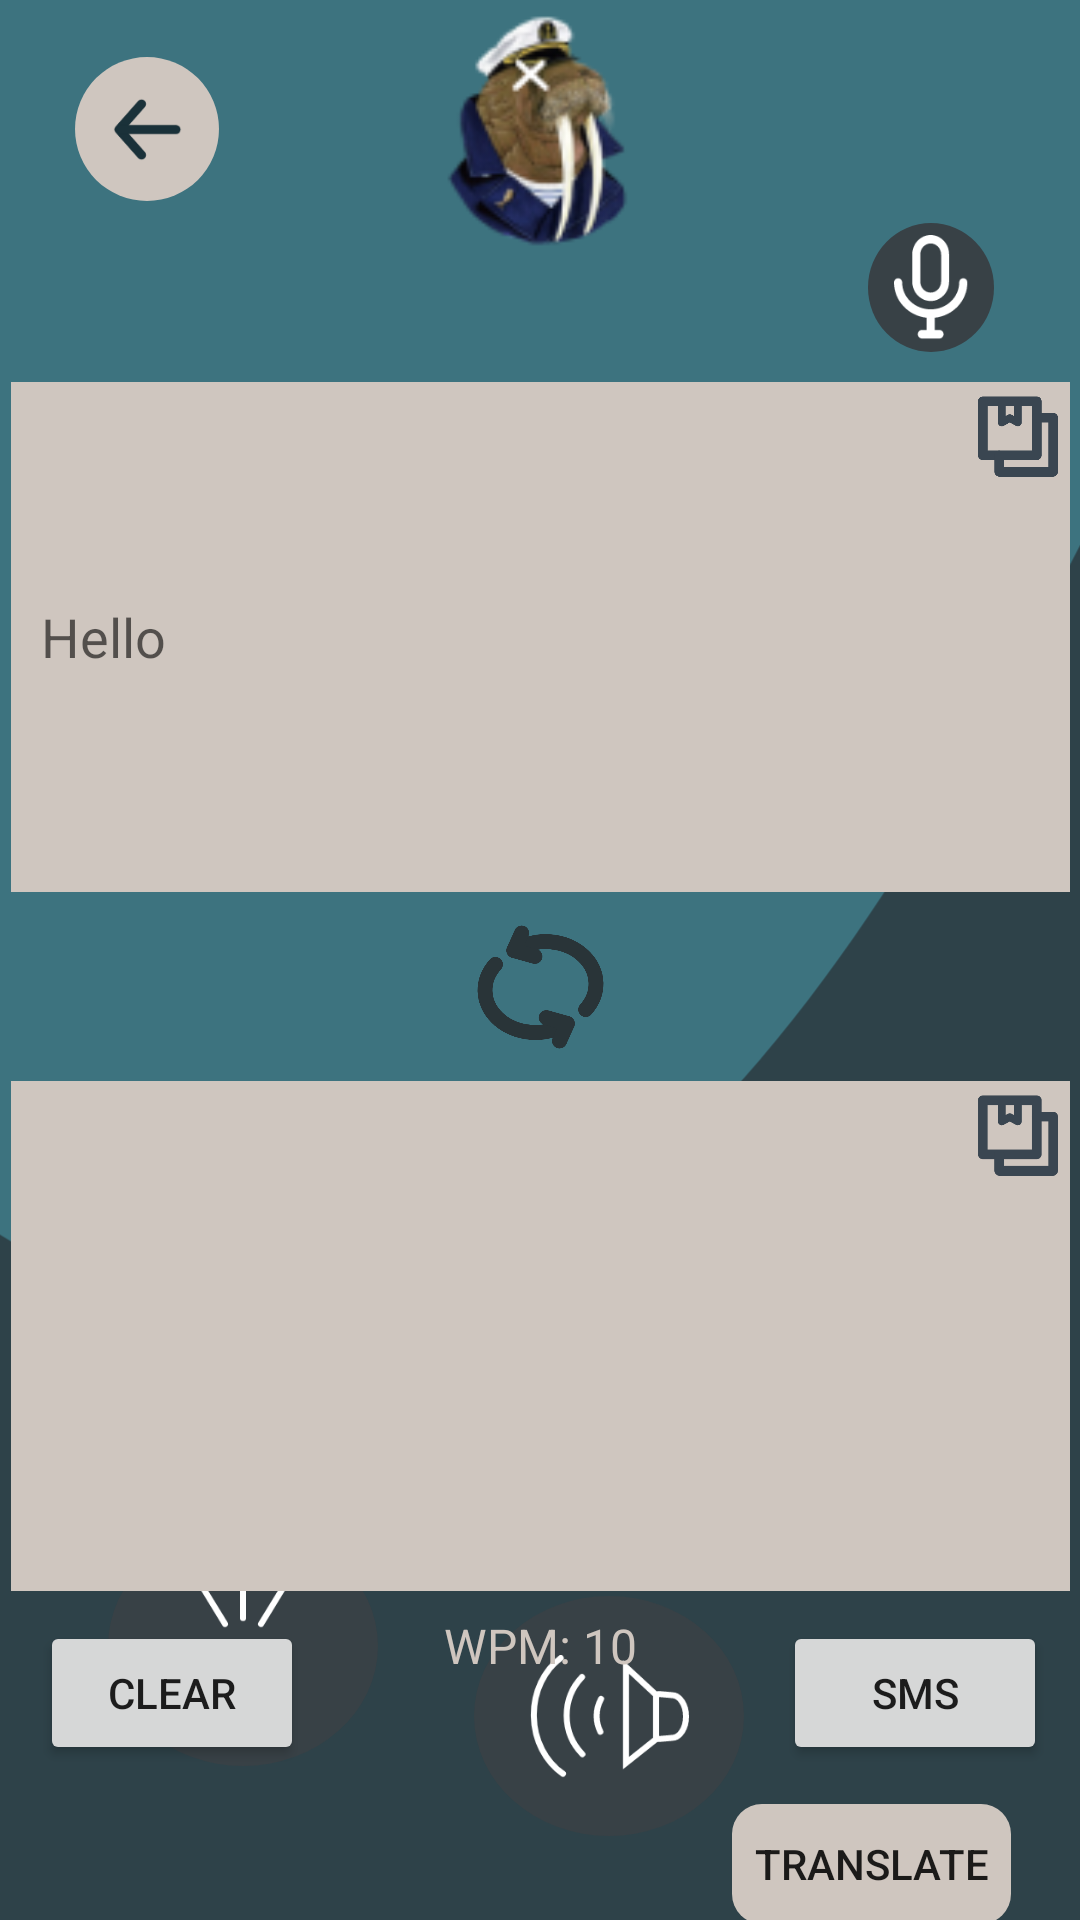

Point at icon controls on the screen. Image size 1080×1920, points as [x,y].
back arrow: [147,129]
duplicate: [1018,436], [1018,1135]
micro: [931,287]
